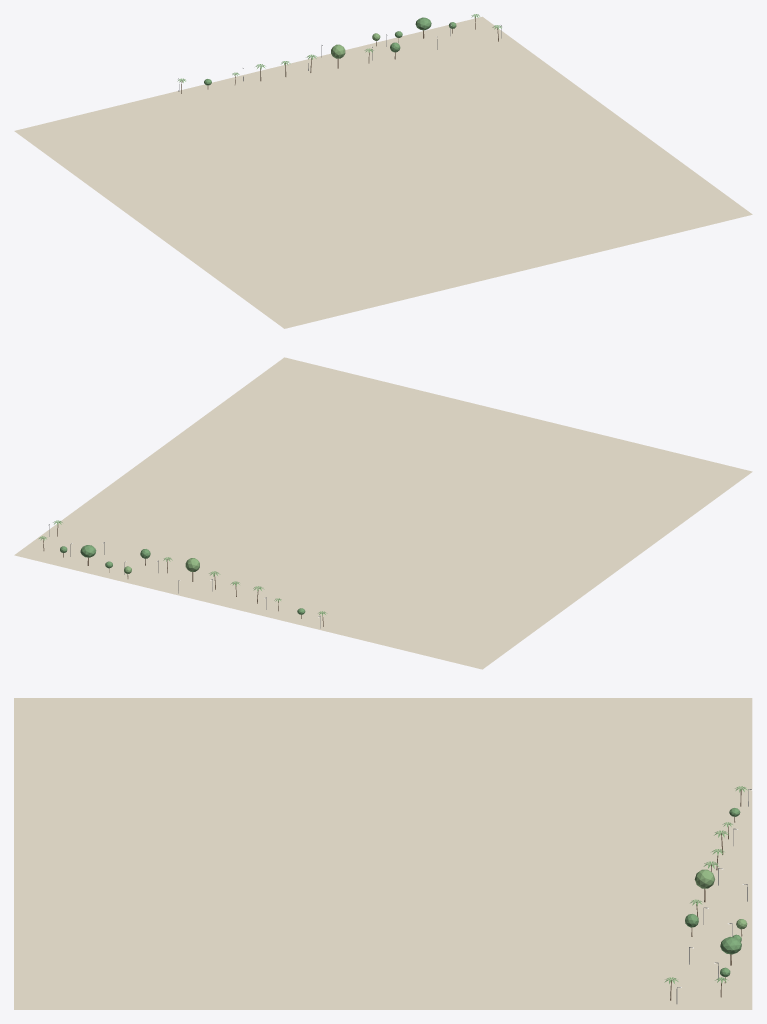
The model's file is nature_4_-5.glb.
3 views of the same model, one above another, from view 1: azimuth 30°, elevation 25°; view 2: azimuth 150°, elevation 25°; view 3: azimuth 270°, elevation 25° (orthographic). The views are drawn at different scales.
Parts seen in each view (by area): view 1: ground; view 2: ground; view 3: ground, foliage_a.
Boxes of the visible parts, bbox=[...] form: ground: bbox=[14, 16, 752, 328]; ground: bbox=[14, 357, 752, 669]; ground: bbox=[14, 698, 752, 1009]; foliage_a: bbox=[685, 808, 741, 976].
Size of the model in its own units: 250 by 12.02 by 250.
